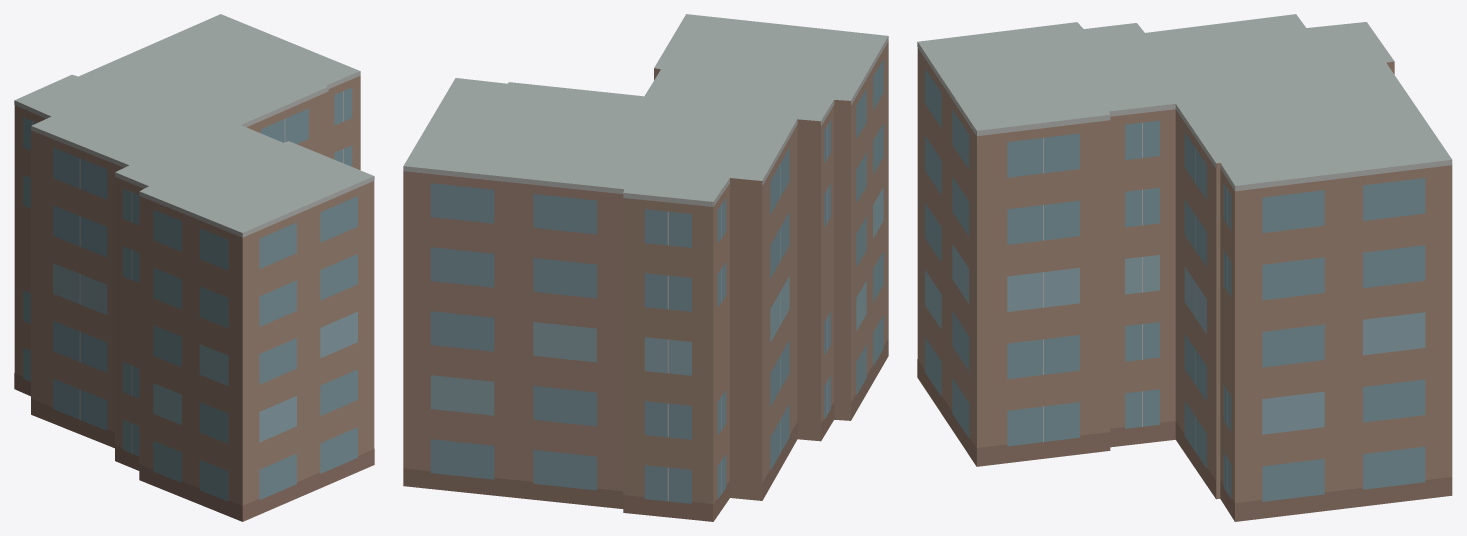
The model's file is survey-upis-32562365.glb.
3 renders of one model, left to right at view 1: azimuth 30°, elevation 25°; view 2: azimuth 150°, elevation 25°; view 3: azimuth 270°, elevation 25°, orthographic. The views are drawn at different scales.
Parts seen in each view (by area): view 1: survey-upis-32562365.tmp; view 2: survey-upis-32562365.tmp; view 3: survey-upis-32562365.tmp.
Part boxes in pixels (x1=…): survey-upis-32562365.tmp: x1=14, y1=14, x2=374, y2=521; survey-upis-32562365.tmp: x1=403, y1=14, x2=888, y2=521; survey-upis-32562365.tmp: x1=917, y1=14, x2=1452, y2=521.
Size of the model in its own units: 16.93 by 15.4 by 22.24.
